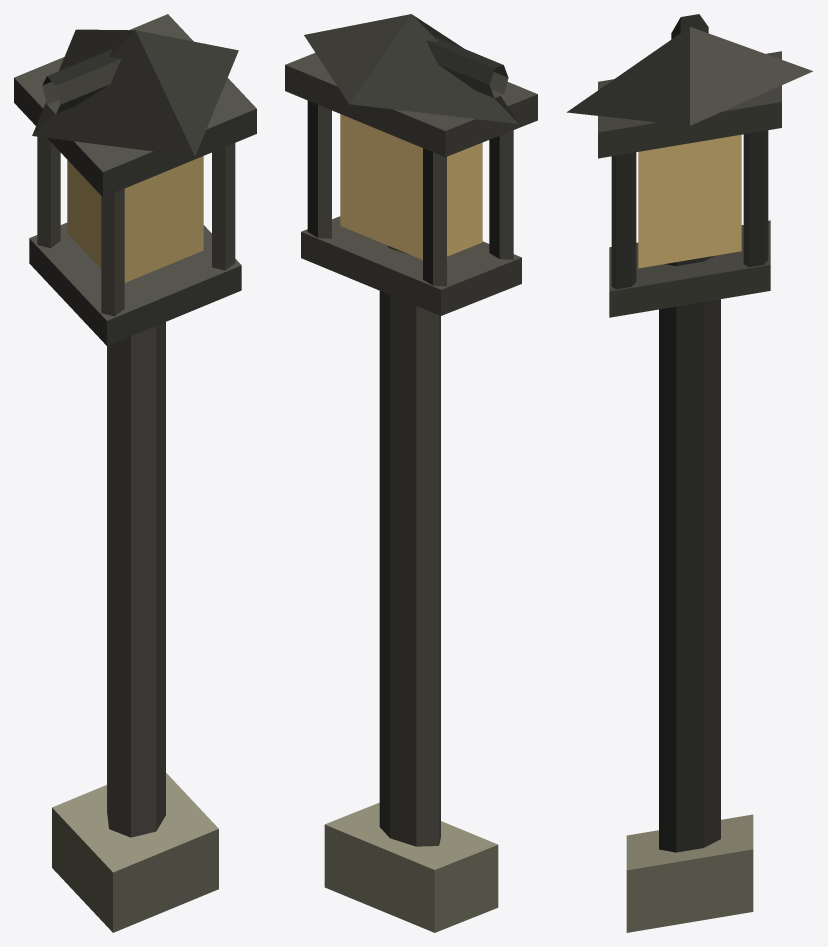
3 views of the same model, side by side, from view 1: azimuth 30°, elevation 25°; view 2: azimuth 150°, elevation 25°; view 3: azimuth 270°, elevation 25° (orthographic). The views are drawn at different scales.
Parts seen in each view (by area): view 1: 733b672582510c121a01d3d3694bed22016dbee7ab06cc510b06c984410b; view 2: 733b672582510c121a01d3d3694bed22016dbee7ab06cc510b06c984410b; view 3: 733b672582510c121a01d3d3694bed22016dbee7ab06cc510b06c984410b.
Boxes of the visible parts, bbox=[...] form: 733b672582510c121a01d3d3694bed22016dbee7ab06cc510b06c984410b: bbox=[14, 14, 256, 932]; 733b672582510c121a01d3d3694bed22016dbee7ab06cc510b06c984410b: bbox=[285, 14, 537, 932]; 733b672582510c121a01d3d3694bed22016dbee7ab06cc510b06c984410b: bbox=[566, 14, 812, 932].
Bounding box in the file's own units: 0.86 × 3.45 × 0.86.
Materials: 2 (1 with a texture image).
